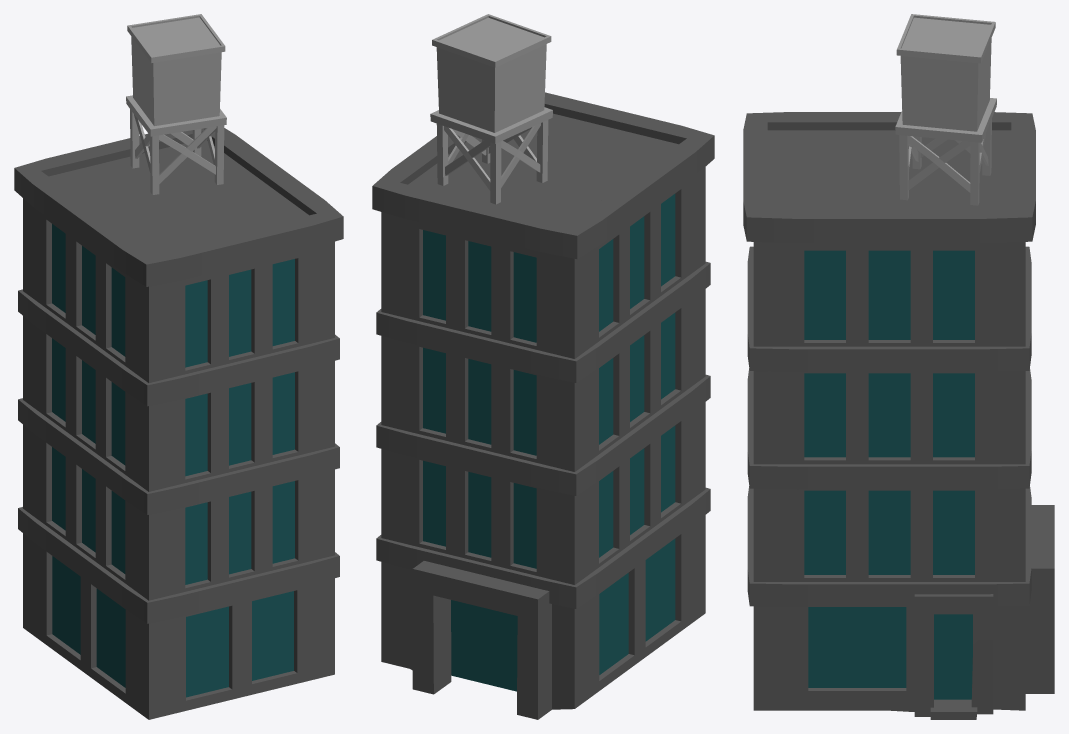
File: building 11_jh_031725.fbx
The picture shows the model from 3 angles, left to right: view 1: azimuth 30°, elevation 25°; view 2: azimuth 150°, elevation 25°; view 3: azimuth 270°, elevation 25°; orthographic projection. The views are drawn at different scales.
Parts seen in each view (by area): view 1: Cube.095, Cube.096, Cube.071; view 2: Cube.095, Cube.096, Cube.071; view 3: Cube.095, Cube.096, Cube.071.
Part boxes in pixels (x1=…): Cube.095: x1=14, y1=128, x2=343, y2=719; Cube.096: x1=52, y1=224, x2=294, y2=697; Cube.071: x1=126, y1=14, x2=226, y2=194; Cube.095: x1=372, y1=92, x2=714, y2=719; Cube.096: x1=423, y1=194, x2=675, y2=691; Cube.071: x1=430, y1=14, x2=552, y2=204; Cube.095: x1=743, y1=112, x2=1054, y2=719; Cube.096: x1=804, y1=250, x2=974, y2=699; Cube.071: x1=895, y1=14, x2=996, y2=205.
Bounding box in the file's own units: 1347 × 3622 × 1586.
